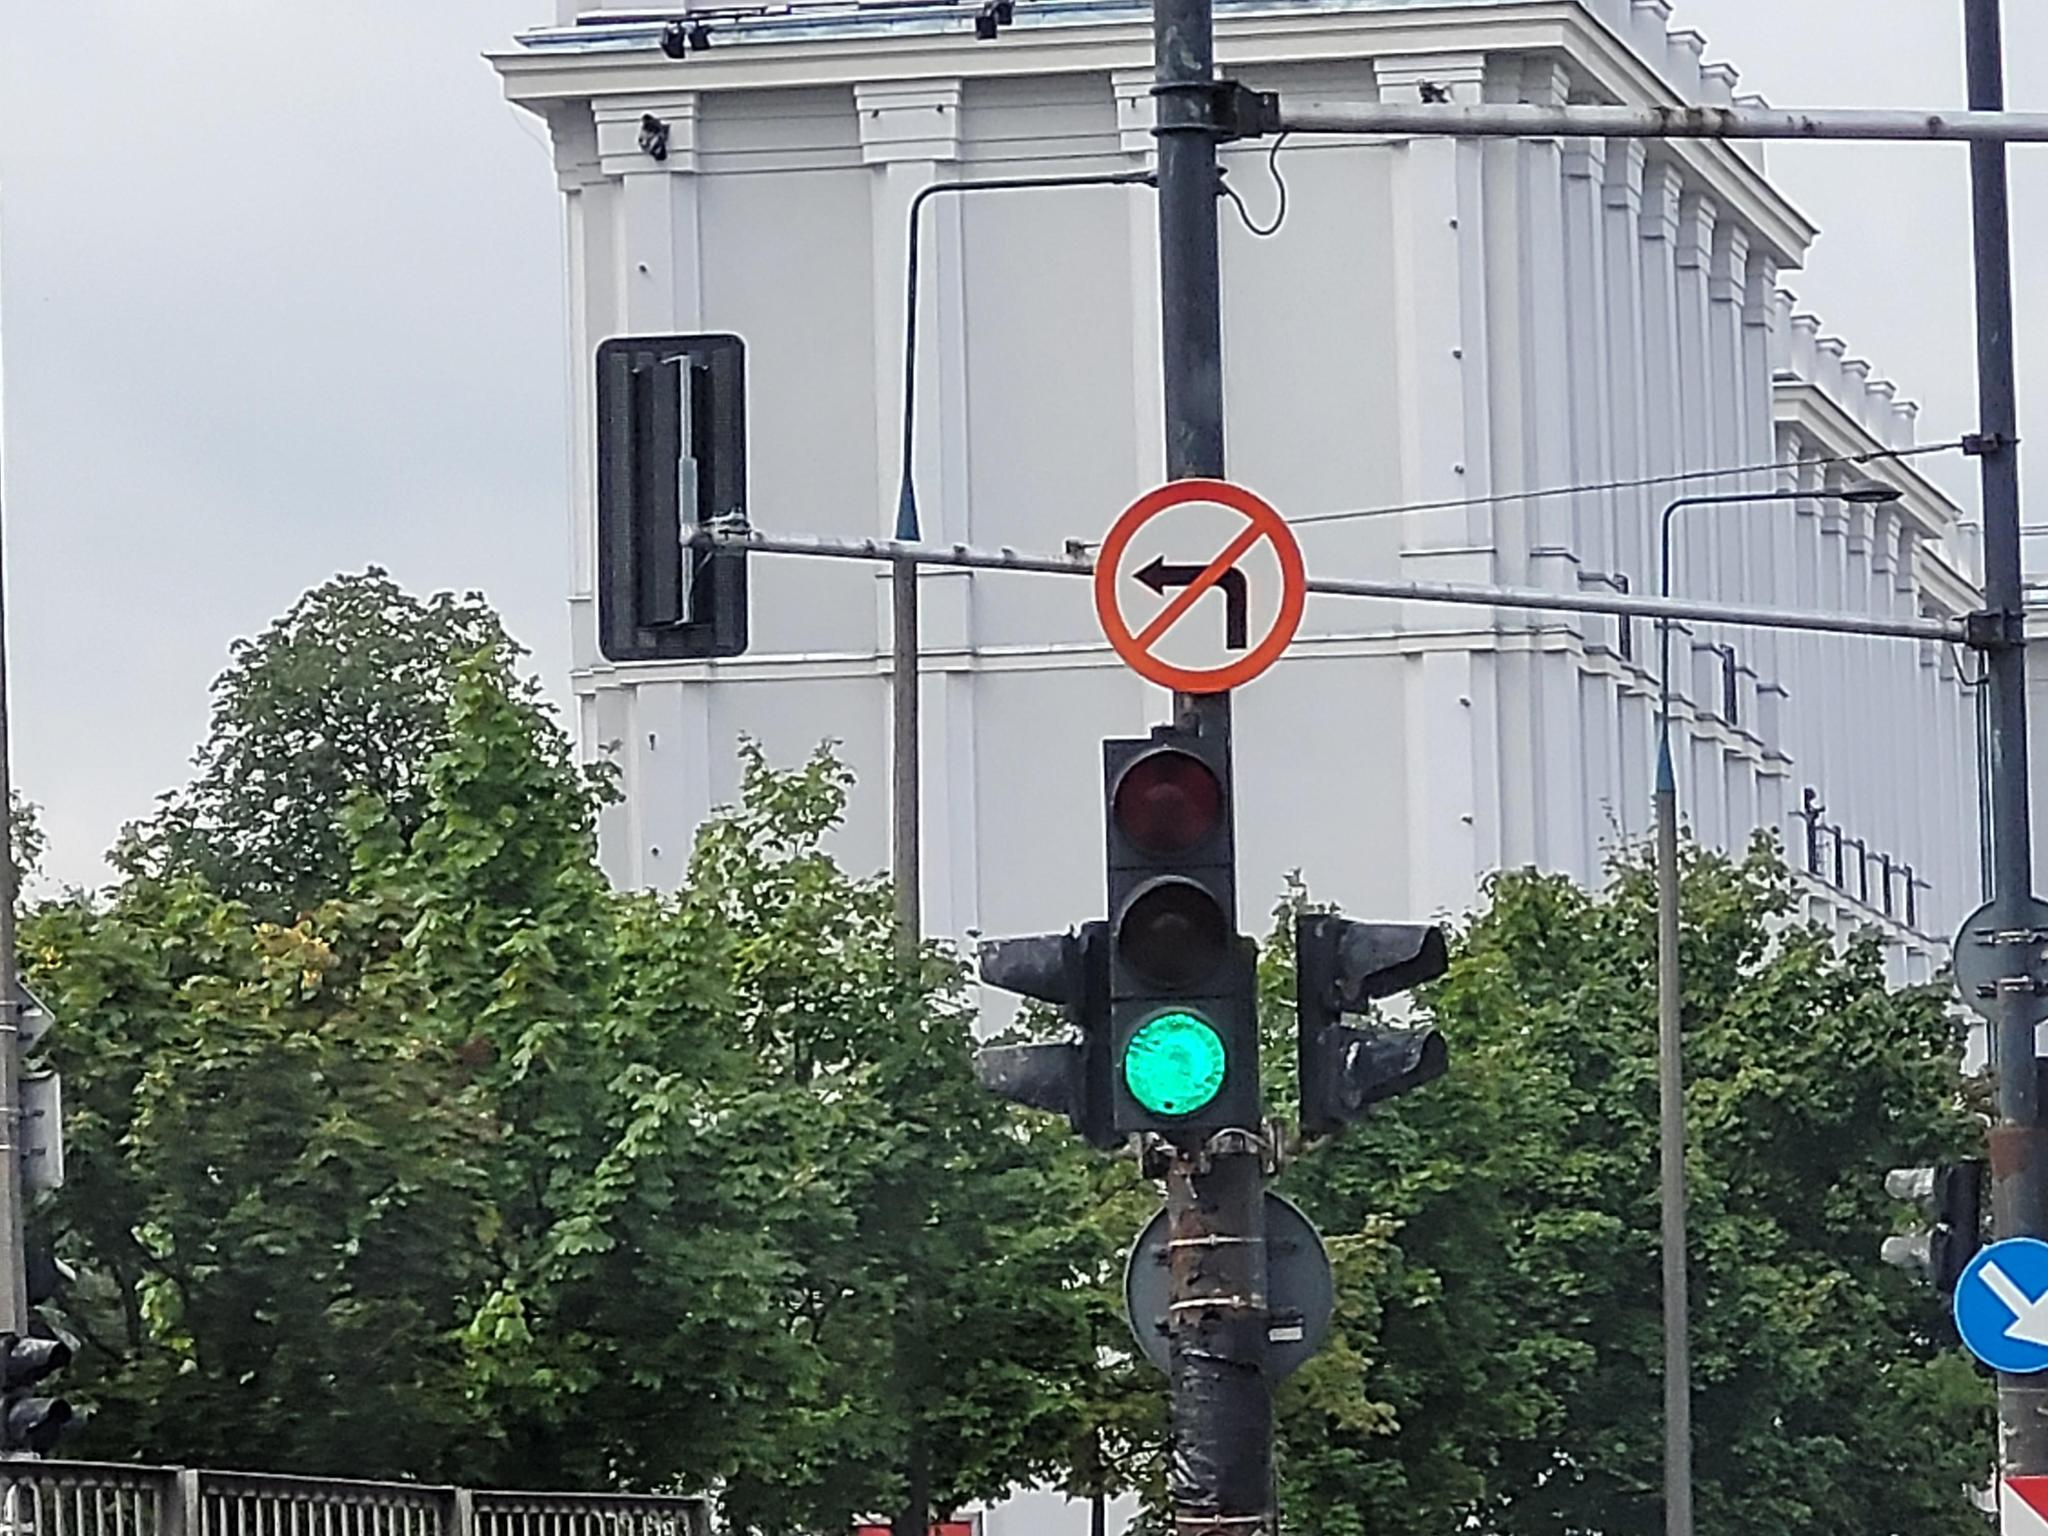mandatory: (1953, 1236, 2048, 1375)
prohibitory: (1093, 476, 1308, 695)
